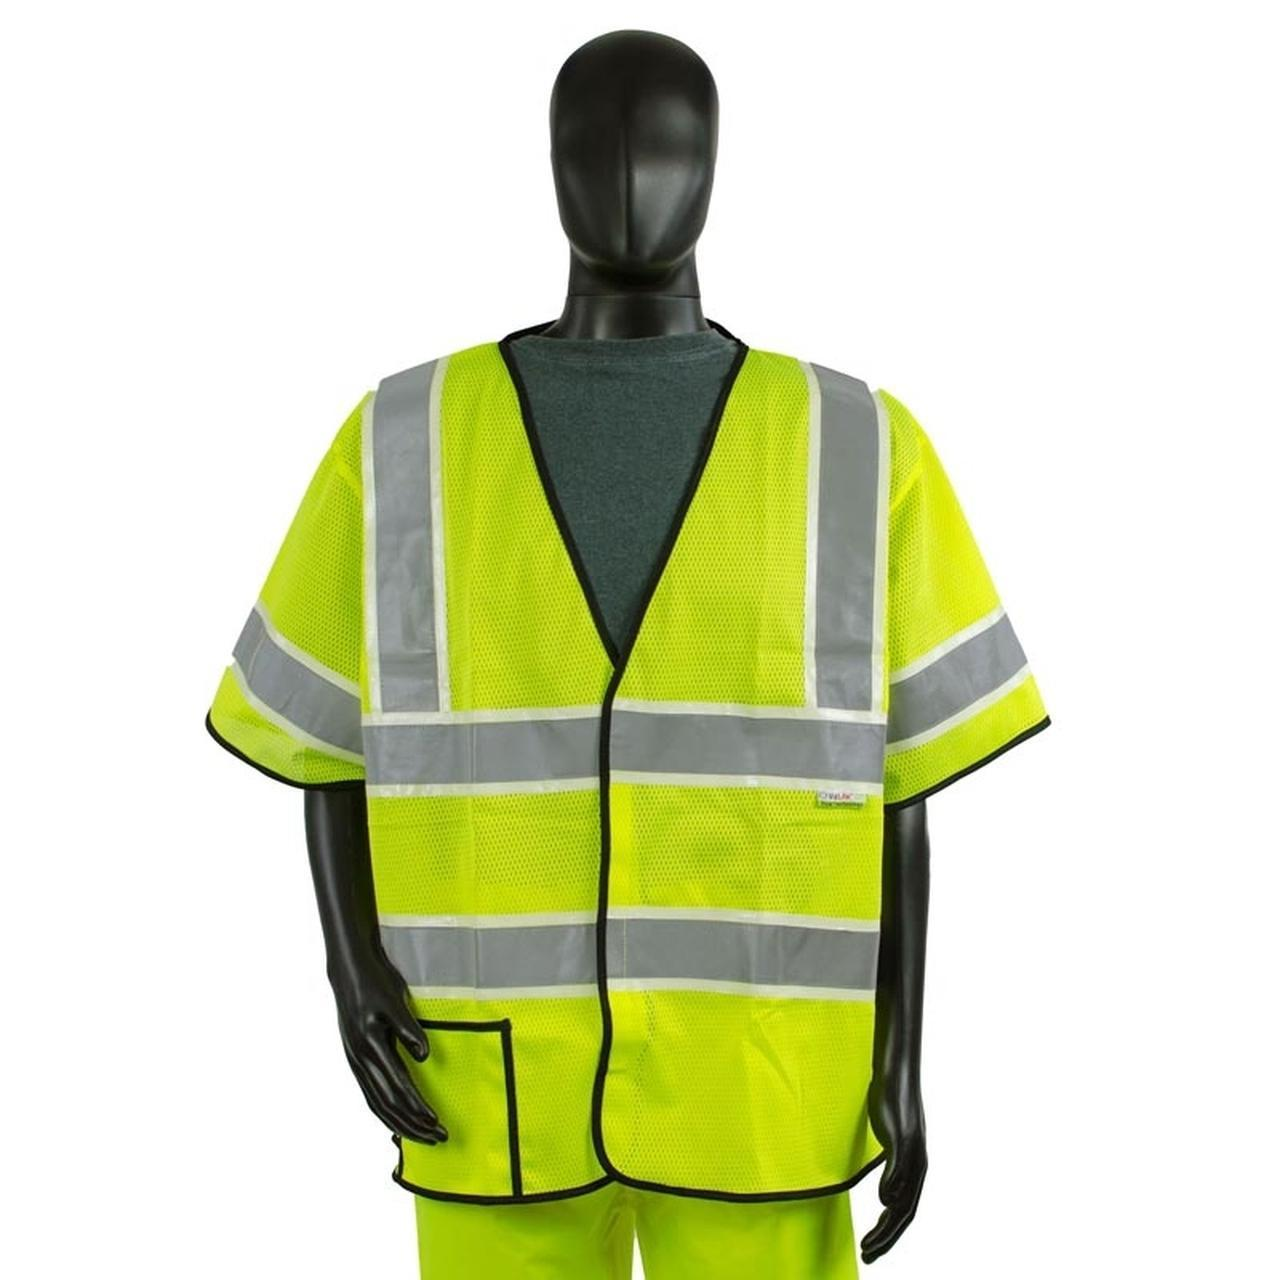vest: (199, 332, 1056, 1207)
